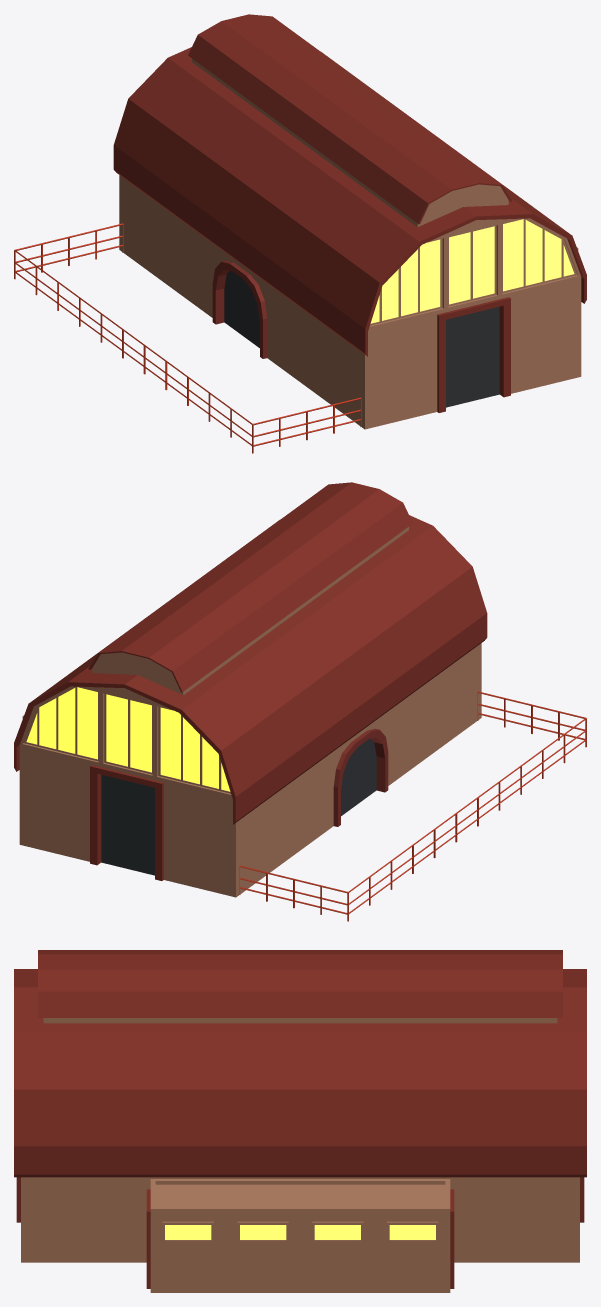
File: SM_cowshed.glb
3 renders of one model, top to bottom at view 1: azimuth 30°, elevation 25°; view 2: azimuth 150°, elevation 25°; view 3: azimuth 270°, elevation 25°, orthographic. The views are drawn at different scales.
Visible parts, largest first — view 1: SM_cowshed; view 2: SM_cowshed; view 3: SM_cowshed.
Part boxes in pixels (x1=…): SM_cowshed: x1=14, y1=14, x2=586, y2=453; SM_cowshed: x1=14, y1=482, x2=586, y2=921; SM_cowshed: x1=14, y1=950, x2=586, y2=1292.
Bounding box in the file's own units: 14 × 7.41 × 16.
2 materials, 1 textured.
